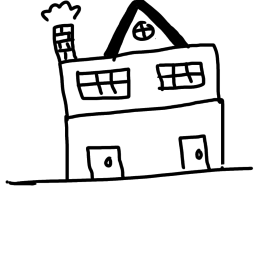closed_window: (152, 53, 208, 99), (70, 67, 136, 102)
door: (165, 127, 213, 176), (80, 139, 131, 184)
roof: (94, 0, 189, 63)
smoking_chimney: (36, 0, 81, 62)
wall: (59, 94, 230, 185)
